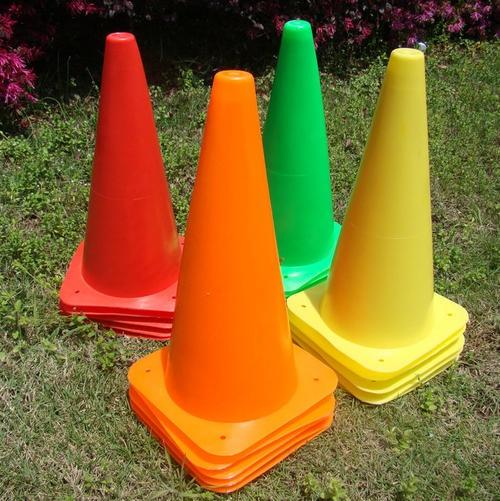cone_barrel: (146, 69, 308, 431), (308, 47, 456, 367), (58, 33, 180, 299), (258, 21, 337, 284)
